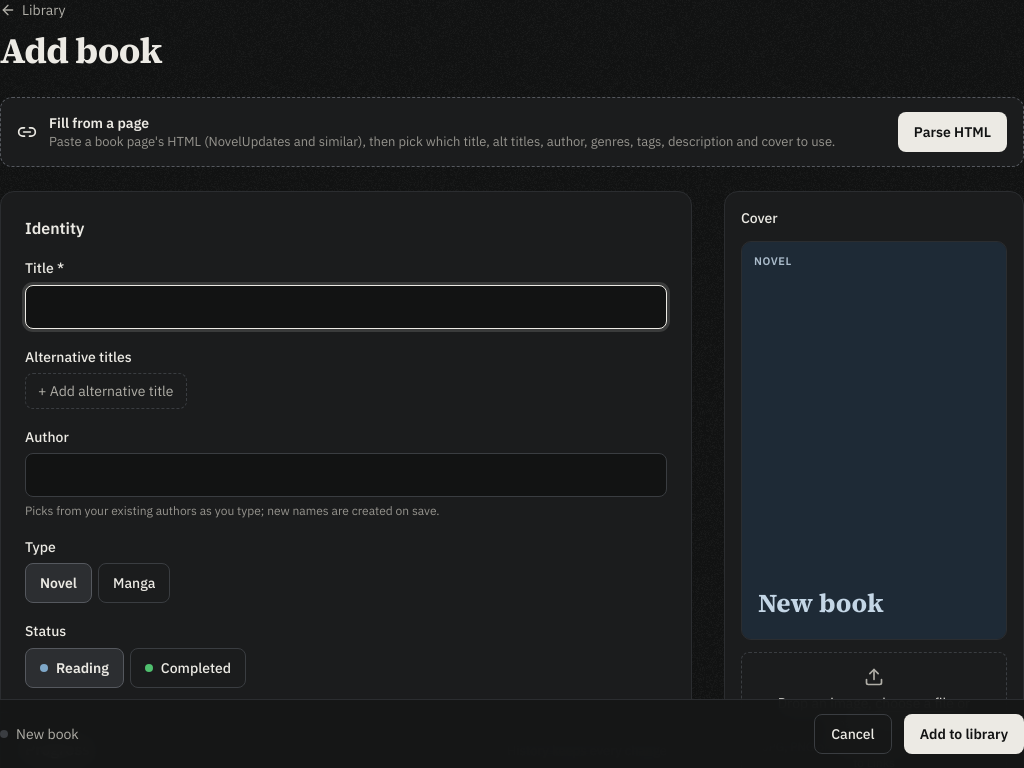
Test: BookFormPage › shows the detected RoyalRoad resolver source
Expected: the heading "Add book" is shown, [0, 26, 162, 75]
Click the button "Parse HTML" at [952, 132], box [898, 112, 1007, 152]
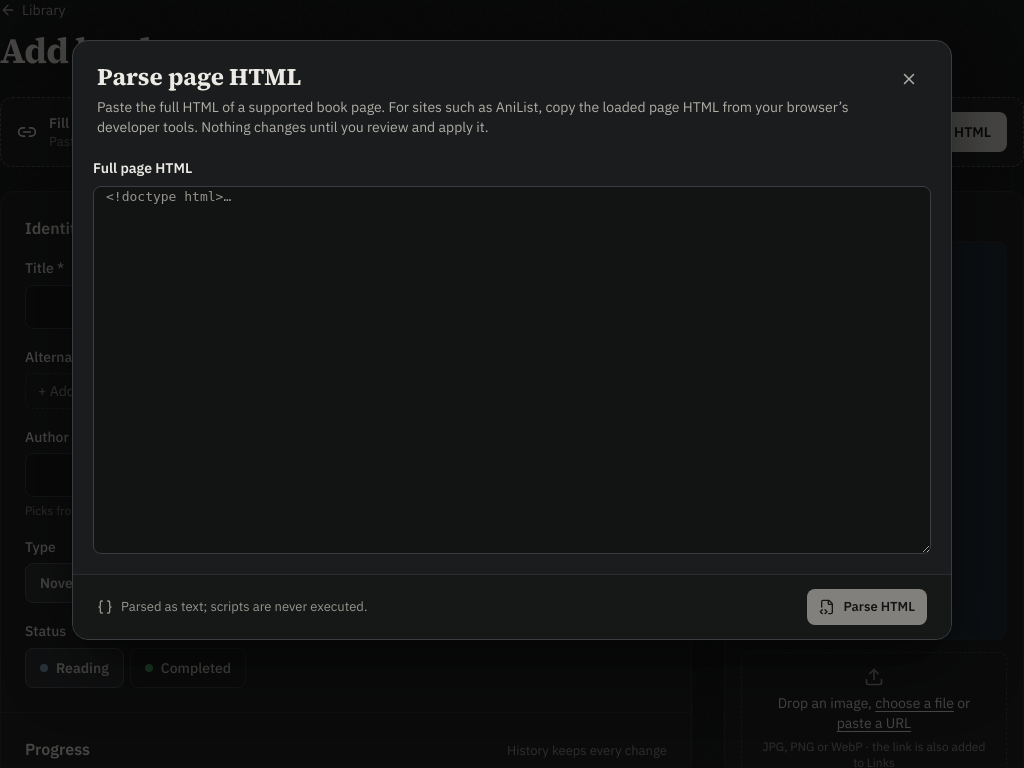
Type "<html>source</html>" into the text box labelled "Full page HTML" at [512, 370], box [93, 186, 931, 554]
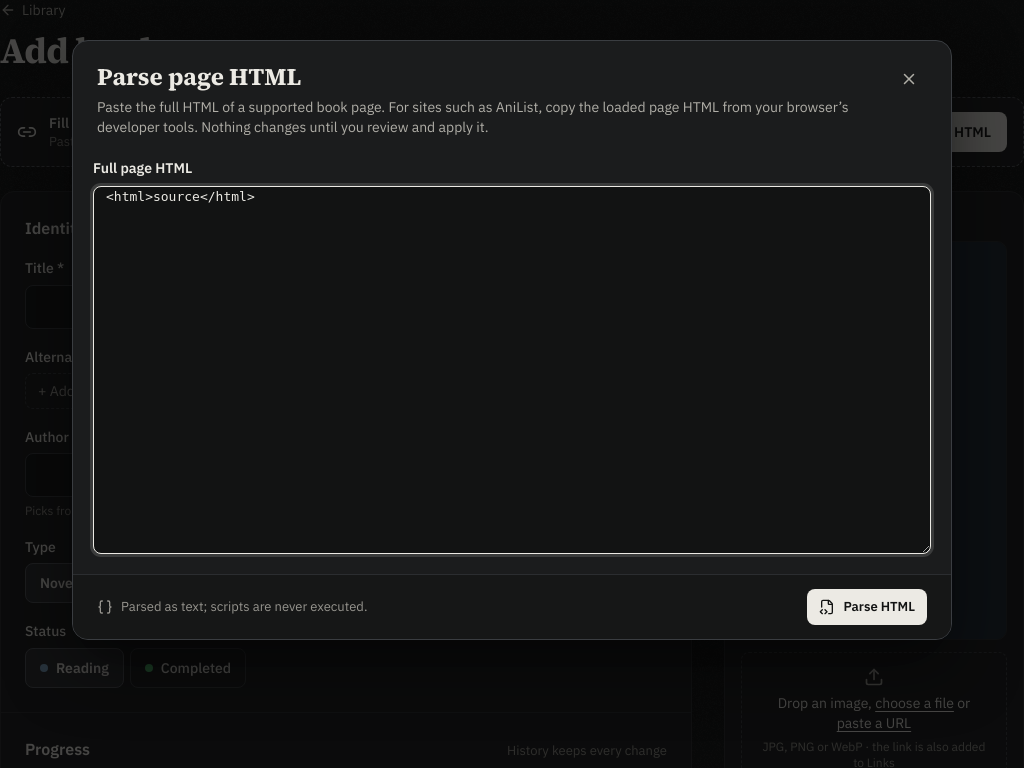
Click the button "Parse HTML" at [867, 607], box [807, 589, 927, 625]
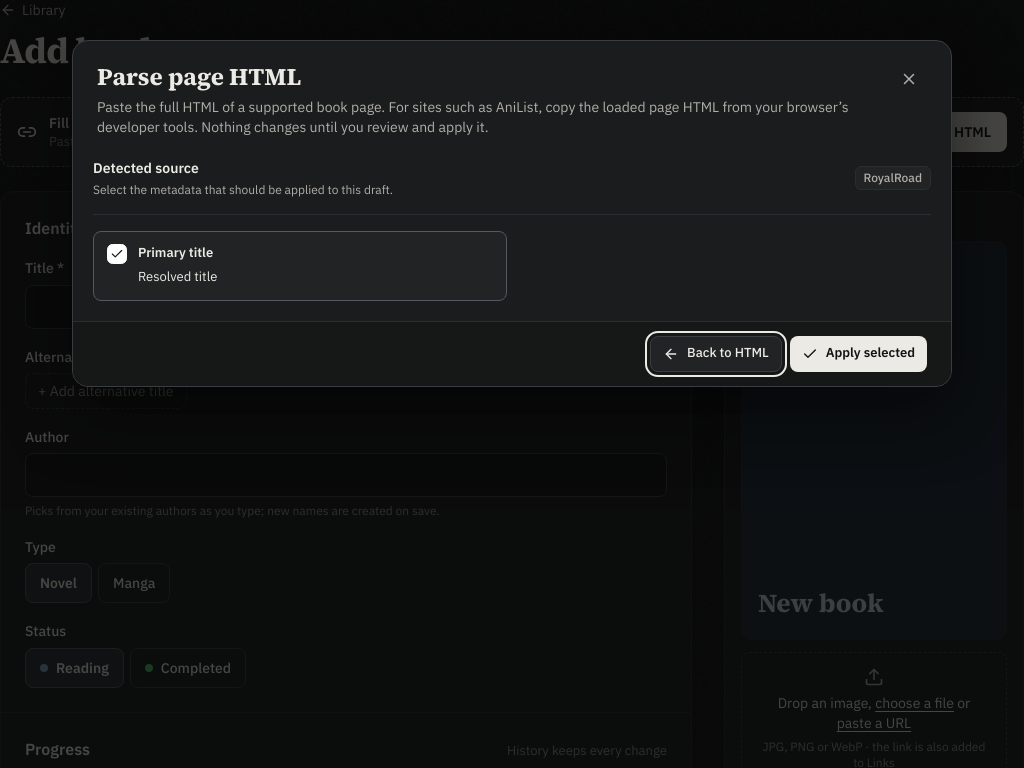
Expected: the text "RoyalRoad" is shown, [854, 166, 931, 190]
